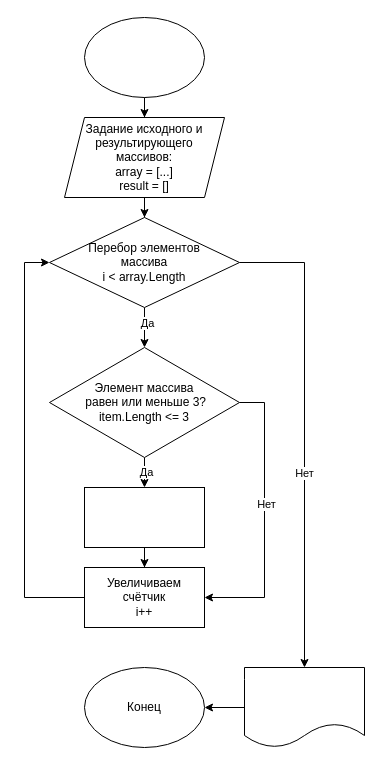
Some shapes in this 382 by 765 pixel diagram are drawn without their labels. The centre of each missing label's shape, as x and y in pixels:
"Выводим элементы результирующего массива" belongs at pixel 304 707.
"Добавляем элемент к результирующему массиву result.Add(item)" belongs at pixel 144 517.
"Начало" belongs at pixel 144 57.
